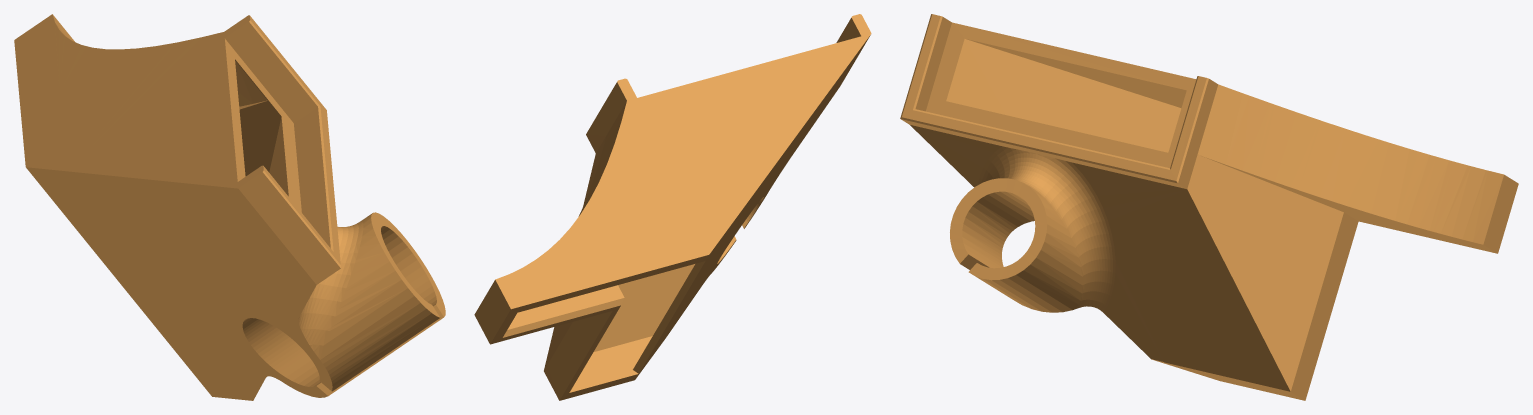
File: nozzle1_6.dae
The picture shows the model from 3 angles, left to right: view 1: azimuth 30°, elevation 25°; view 2: azimuth 150°, elevation 25°; view 3: azimuth 270°, elevation 25°; orthographic projection. The views are drawn at different scales.
Visible parts, largest first — view 1: nozzle1_019; view 2: nozzle1_019; view 3: nozzle1_019.
Boxes of the visible parts, <box> form: nozzle1_019: <box>14,14,445,400</box>; nozzle1_019: <box>474,14,871,400</box>; nozzle1_019: <box>900,14,1518,400</box>.
Size of the model in its own units: 0.0458 by 0.1215 by 0.069.
